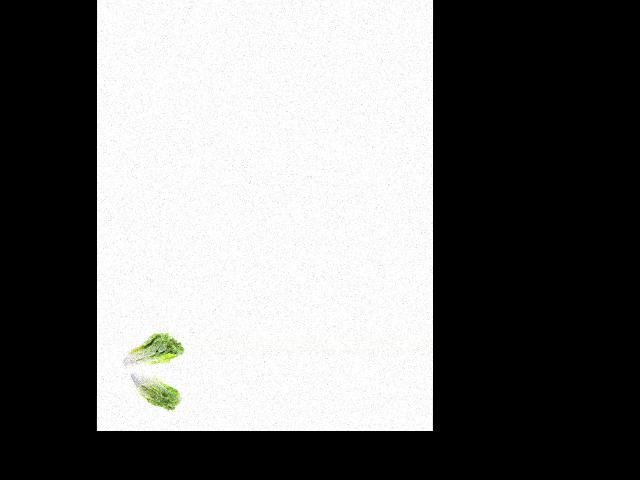lettuce: (124, 371, 181, 411)
